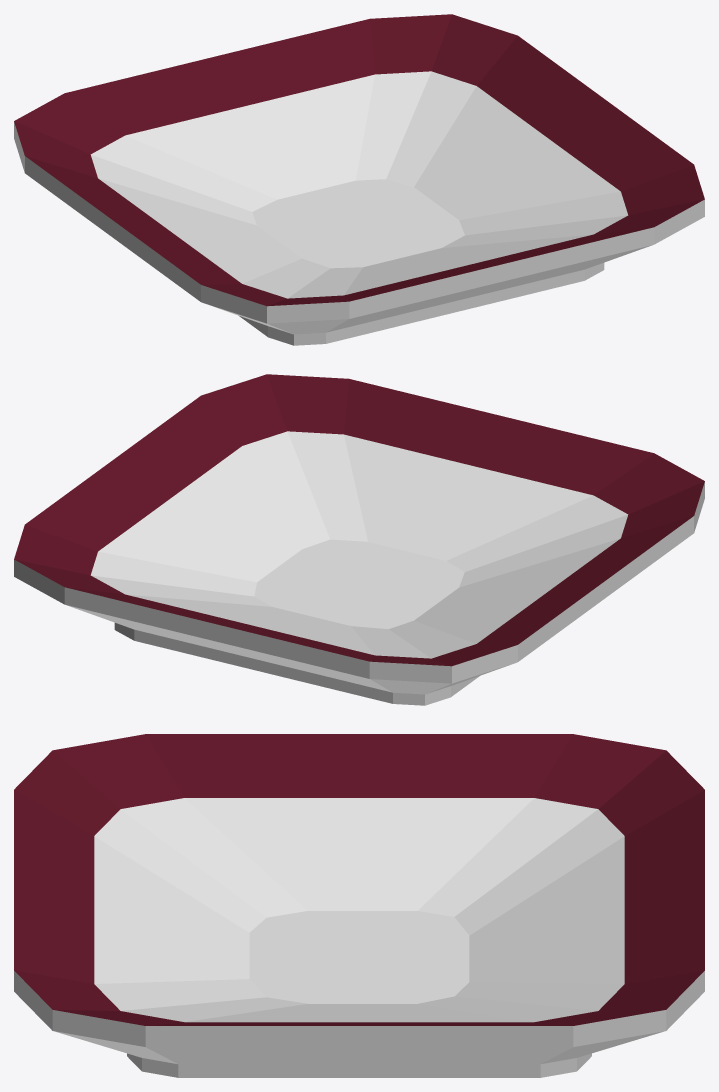
Rendered from R_Plate_Soup_1.fbx.
3 renders of one model, top to bottom at view 1: azimuth 30°, elevation 25°; view 2: azimuth 150°, elevation 25°; view 3: azimuth 270°, elevation 25°, orthographic. The views are drawn at different scales.
Parts seen in each view (by area): view 1: R_Plate_Soup_1; view 2: R_Plate_Soup_1; view 3: R_Plate_Soup_1.
Part boxes in pixels (x1=…): R_Plate_Soup_1: x1=14, y1=14, x2=704, y2=345; R_Plate_Soup_1: x1=14, y1=374, x2=704, y2=705; R_Plate_Soup_1: x1=14, y1=734, x2=704, y2=1077.
Size of the model in its own units: 172 by 172 by 27.37.
